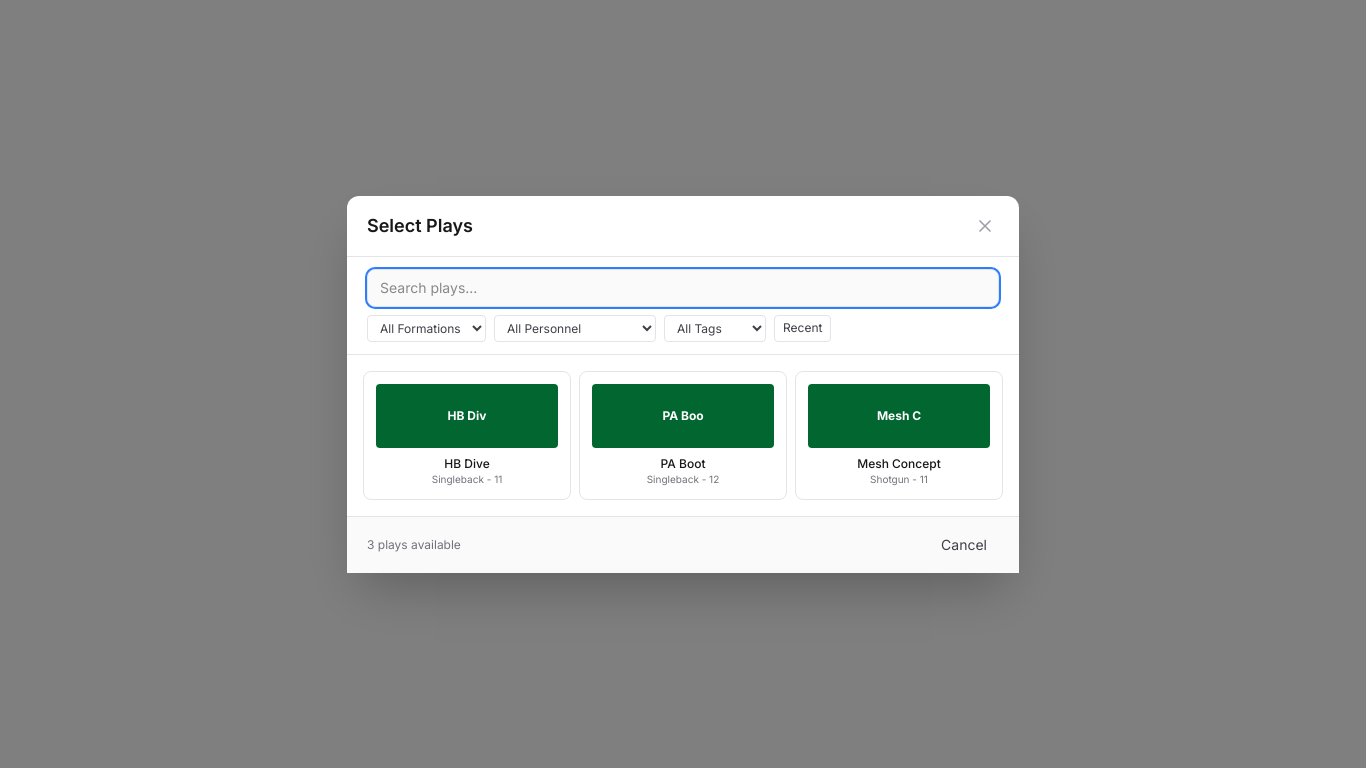
Test: PlayPicker › filters plays by search text
Step 1. Type "Mesh" into the field with test id "play-search-input" → (683, 288), box [367, 268, 999, 306]
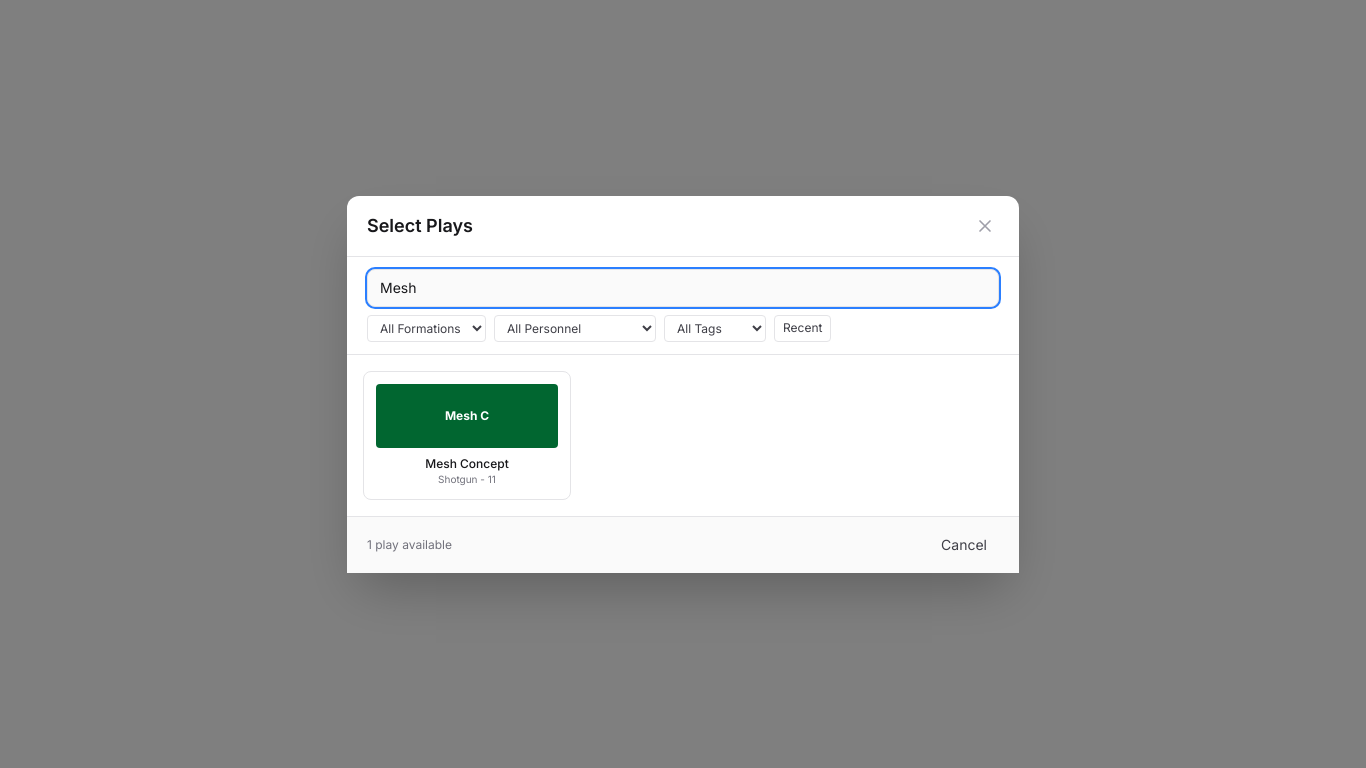
Expected: the button with test id "play-option-play-3" is shown, [363, 370, 571, 500]
Now the button with test id "play-option-play-1" is gone
Now the button with test id "play-option-play-2" is gone
